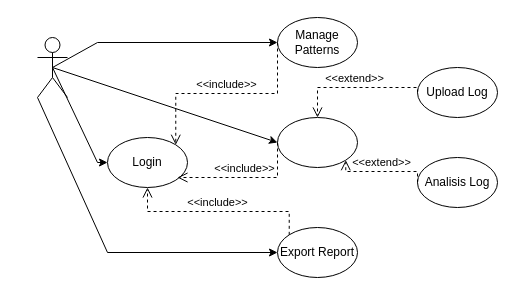
The diagram is 515 pixels wide and 295 high, and some of its shapes have lost their labels. The shapes that lost their labels are listed below. From the top down, each one's box as (x1, y1, x2, y2) in pixels, then its label:
(36, 36, 68, 98): Administrator
(276, 116, 358, 168): Add Domain
